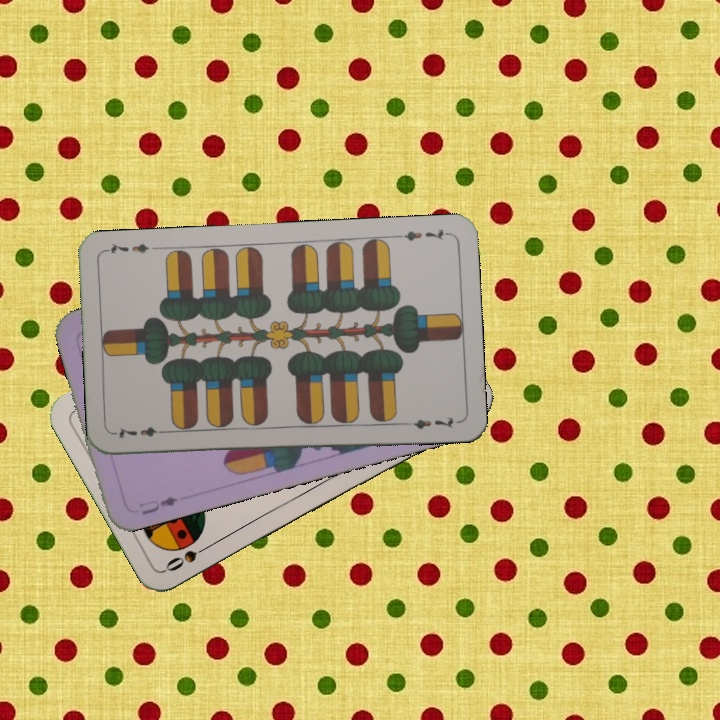E7: (392, 225, 451, 244), (111, 423, 171, 441)
EU: (135, 492, 180, 518)
SO: (161, 539, 216, 575)
